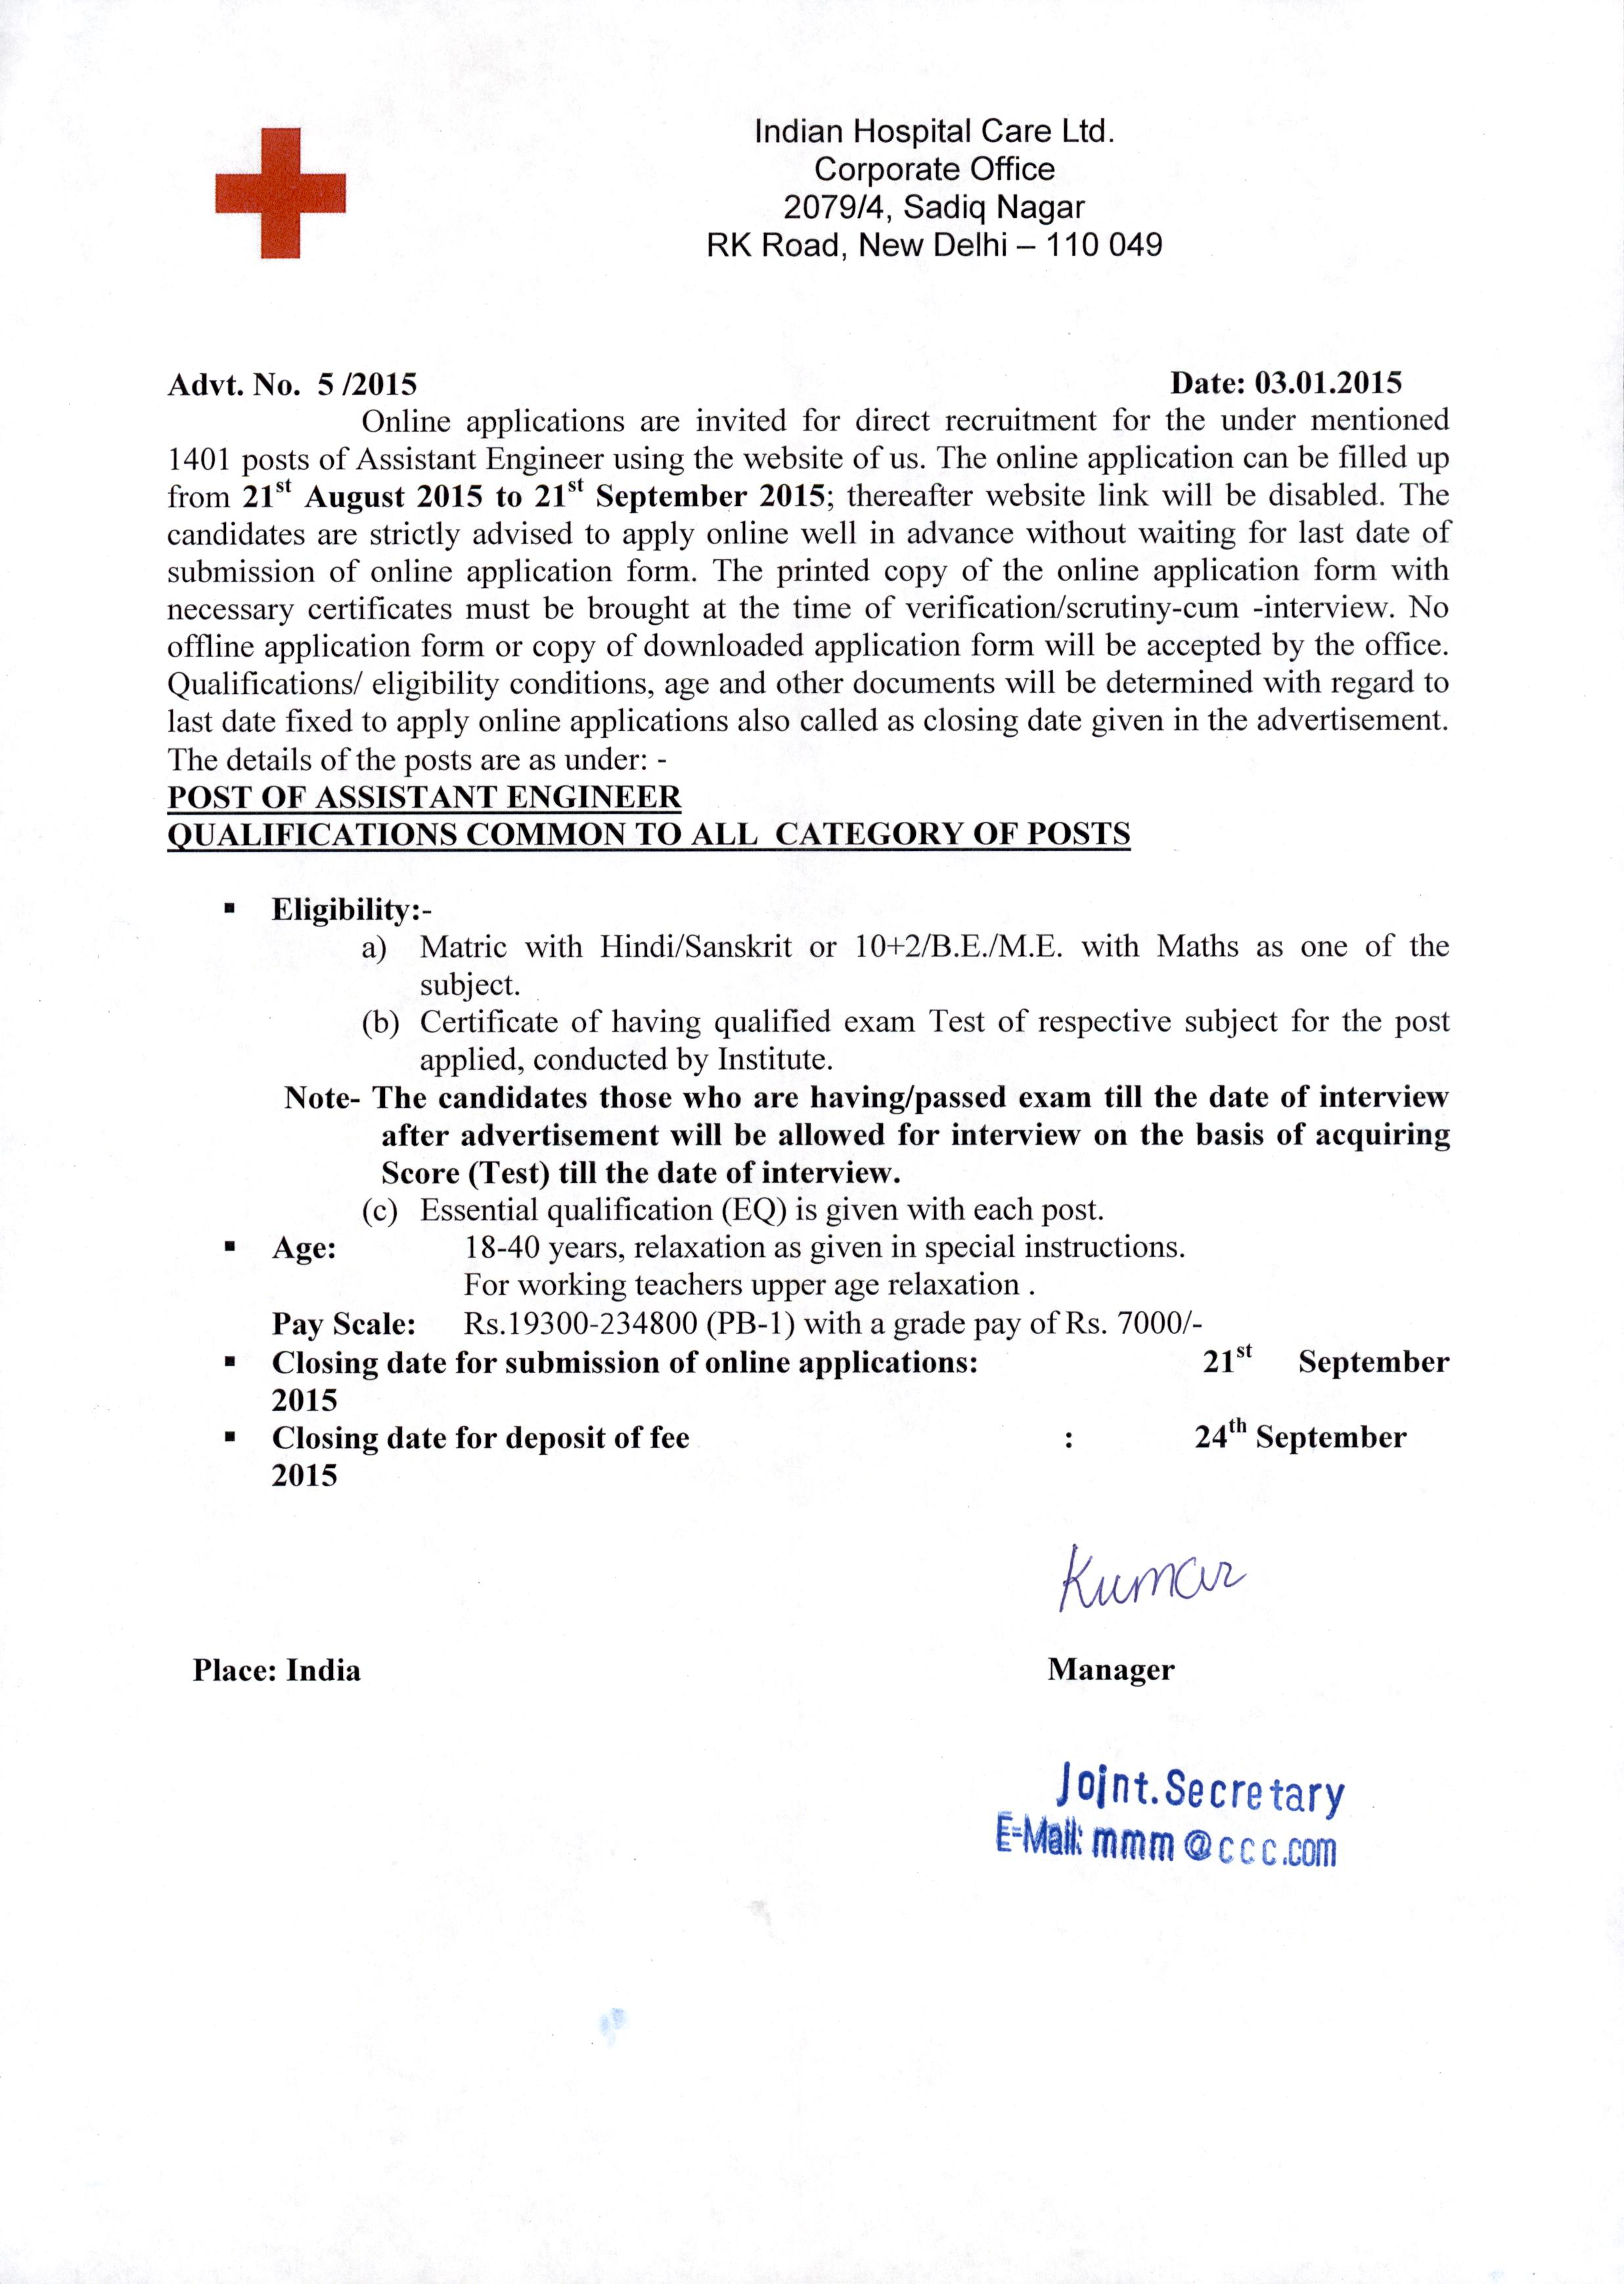Signature: (1051, 1530, 1260, 1623)
